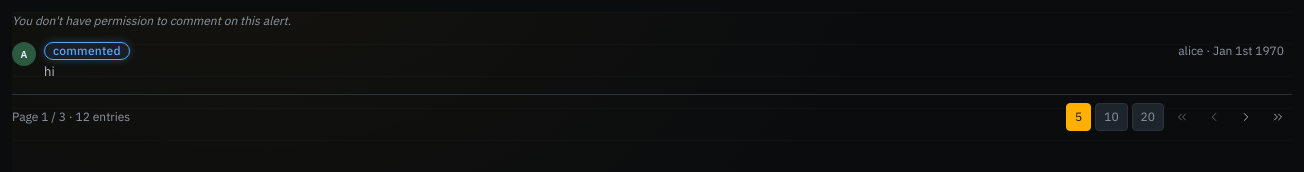
CommentTimeline › offers first/last page jumps that move to the page boundaries
The image size is (1304, 172).
Expected: the text "Page 1 / 3 · 12 entries" is shown, [12, 108, 130, 126]
Expected: the button named "first page" is disabled, [1168, 102, 1196, 130]
Click the button named "last page" at (1278, 116), box [1264, 102, 1292, 130]
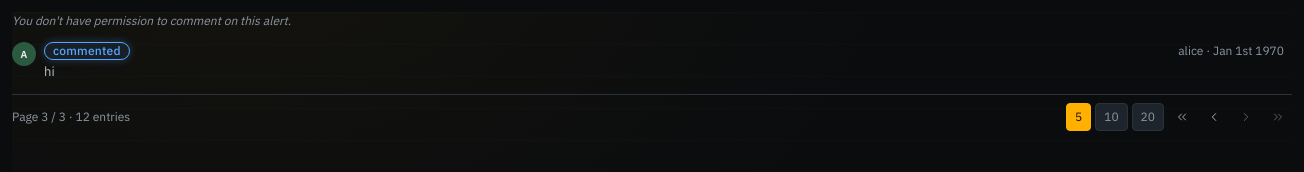
Expected: the text "Page 3 / 3 · 12 entries" is shown, [12, 108, 130, 126]
Click the button named "first page" at (1182, 116), box [1168, 102, 1196, 130]
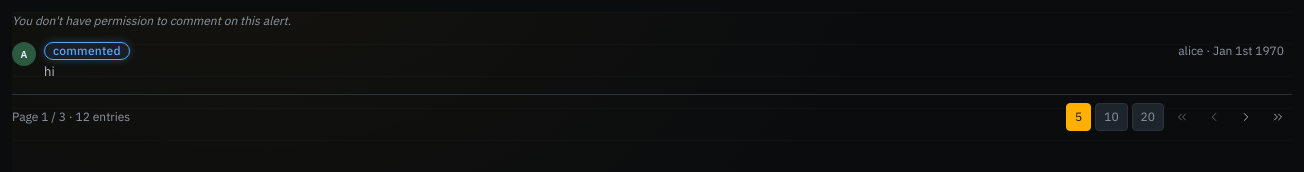
Expected: the text "Page 1 / 3 · 12 entries" is shown, [12, 108, 130, 126]
